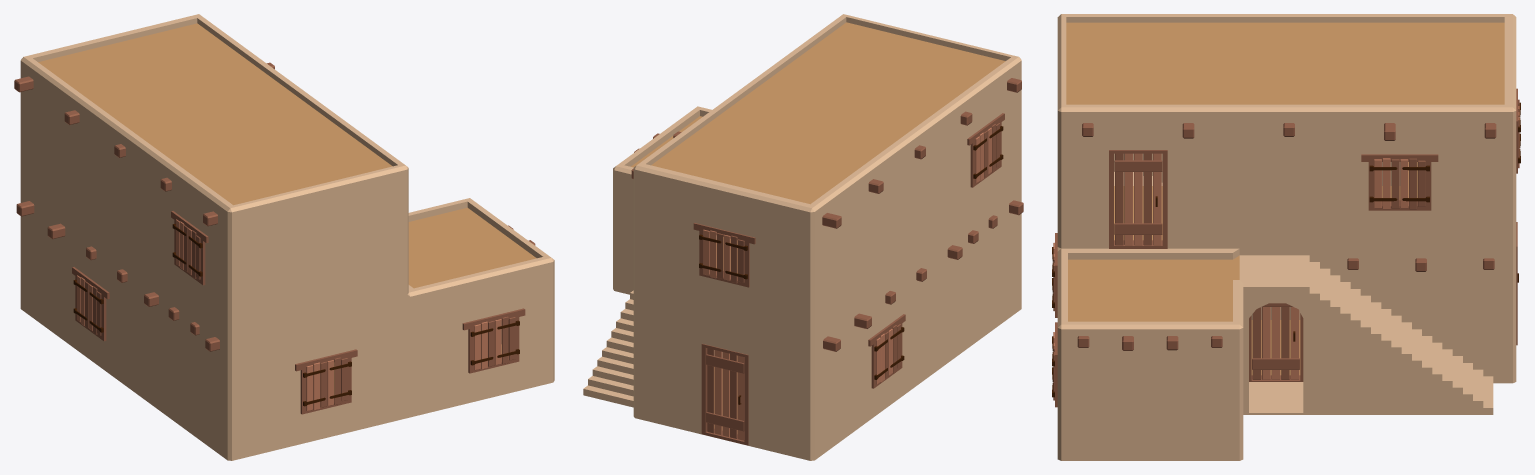
Rendered from Large Building D.glb.
3 views of the same model, side by side, from view 1: azimuth 30°, elevation 25°; view 2: azimuth 150°, elevation 25°; view 3: azimuth 270°, elevation 25° (orthographic). The views are drawn at different scales.
Visible parts, largest first — view 1: Large Building D; view 2: Large Building D; view 3: Large Building D.
Part boxes in pixels (<box>): Large Building D: <box>14,14,554,460</box>; Large Building D: <box>583,14,1023,460</box>; Large Building D: <box>1052,14,1520,460</box>.
Bounding box in the file's own units: 953 × 653 × 1011.
